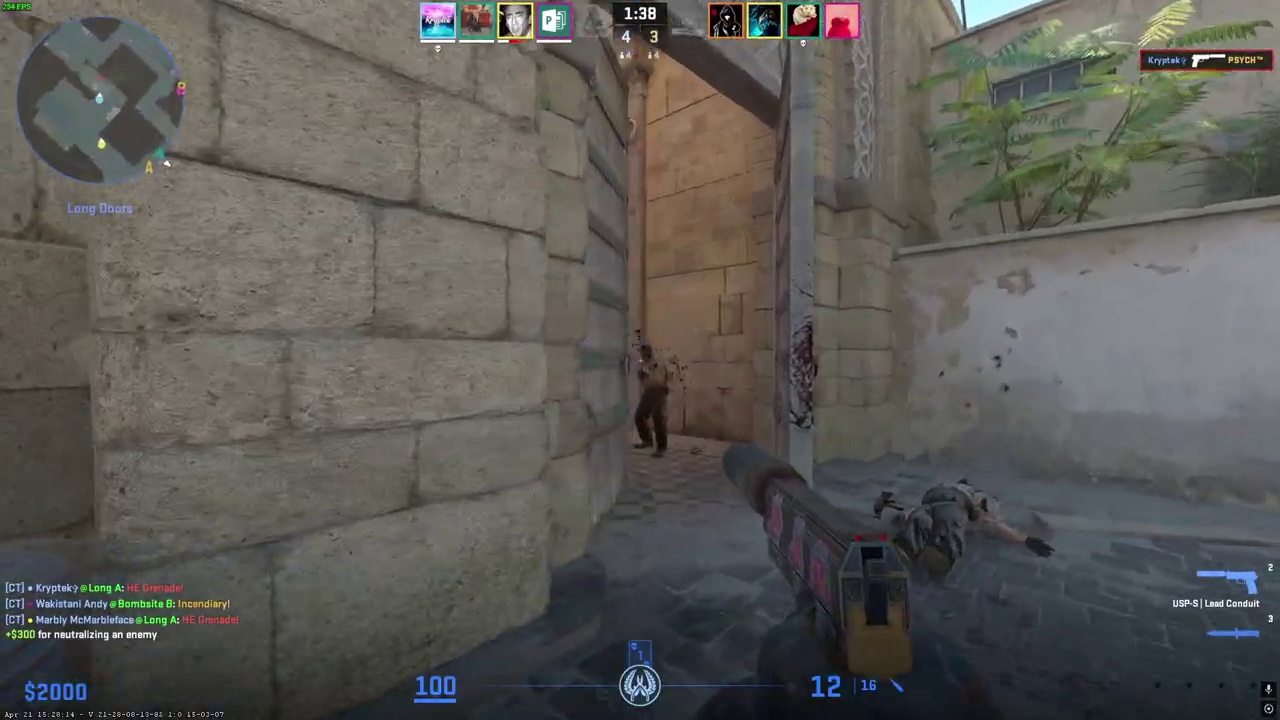Terrorist: (633, 344, 669, 457)
